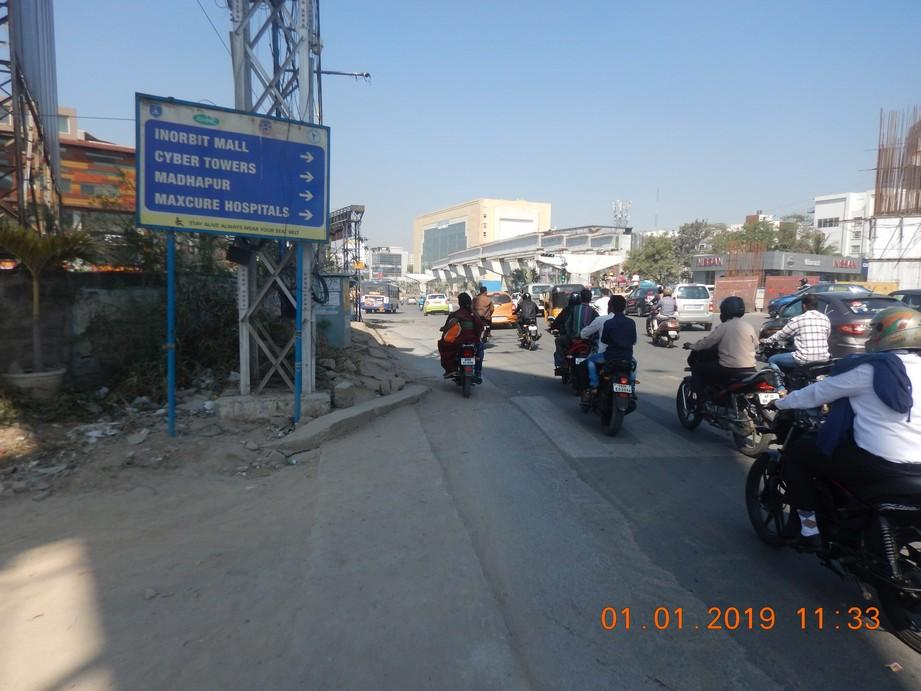plate: (612, 382, 633, 395), (460, 357, 476, 366)
